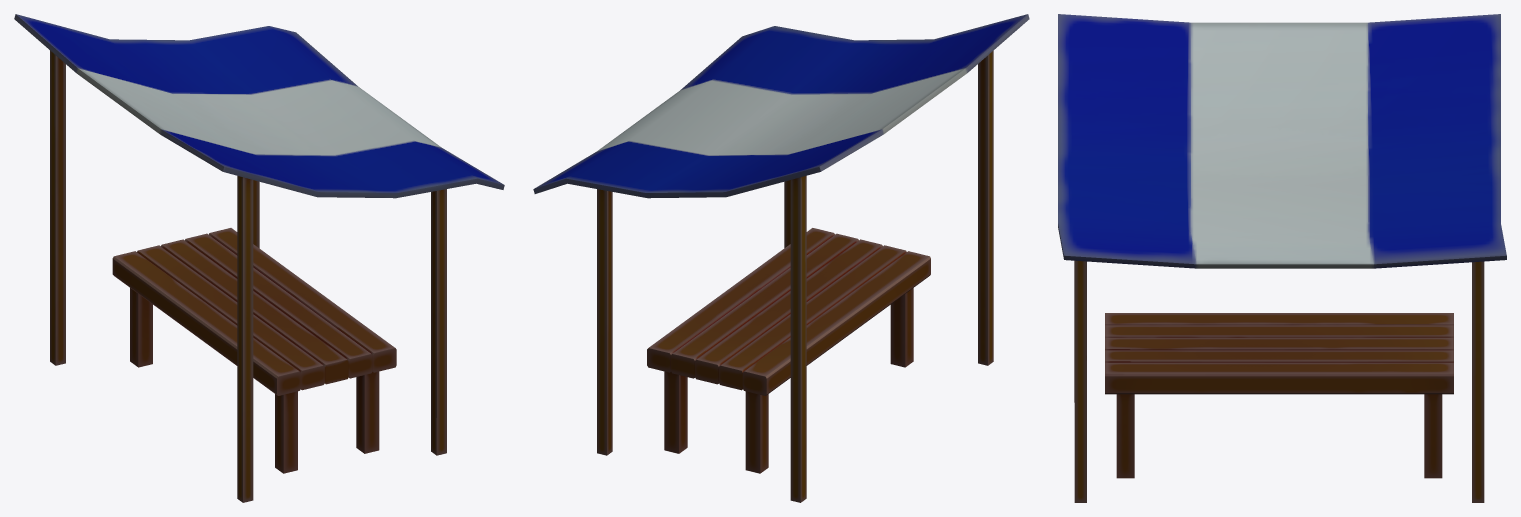
File: pazarM.fbx
The picture shows the model from 3 angles, left to right: view 1: azimuth 30°, elevation 25°; view 2: azimuth 150°, elevation 25°; view 3: azimuth 270°, elevation 25°; orthographic projection. The views are drawn at different scales.
Visible parts, largest first — view 1: Cube.051; view 2: Cube.051; view 3: Cube.051.
Boxes of the visible parts, box(x1,y1,x2,y2) form: Cube.051: box(14, 14, 504, 502); Cube.051: box(533, 14, 1029, 502); Cube.051: box(1058, 14, 1506, 502).
Size of the model in its own units: 709 by 827 by 910.
